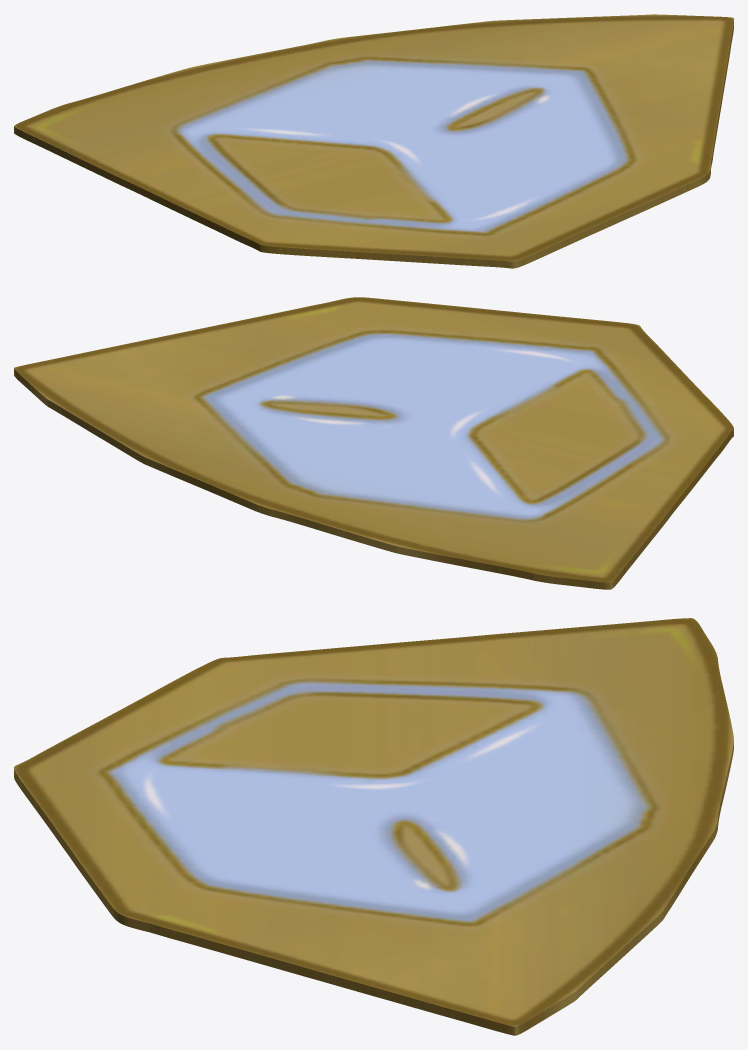
3 renders of one model, top to bottom at view 1: azimuth 30°, elevation 25°; view 2: azimuth 150°, elevation 25°; view 3: azimuth 270°, elevation 25°, orthographic. The views are drawn at different scales.
Visible parts, largest first — view 1: path1587; view 2: path1587; view 3: path1587.
Part boxes in pixels (x1=…): path1587: x1=14, y1=14, x2=733, y2=268; path1587: x1=14, y1=297, x2=733, y2=589; path1587: x1=14, y1=618, x2=733, y2=1035.
Bounding box in the file's own units: 97.59 × 1 × 72.65.
Materials: 1 (1 with a texture image).
